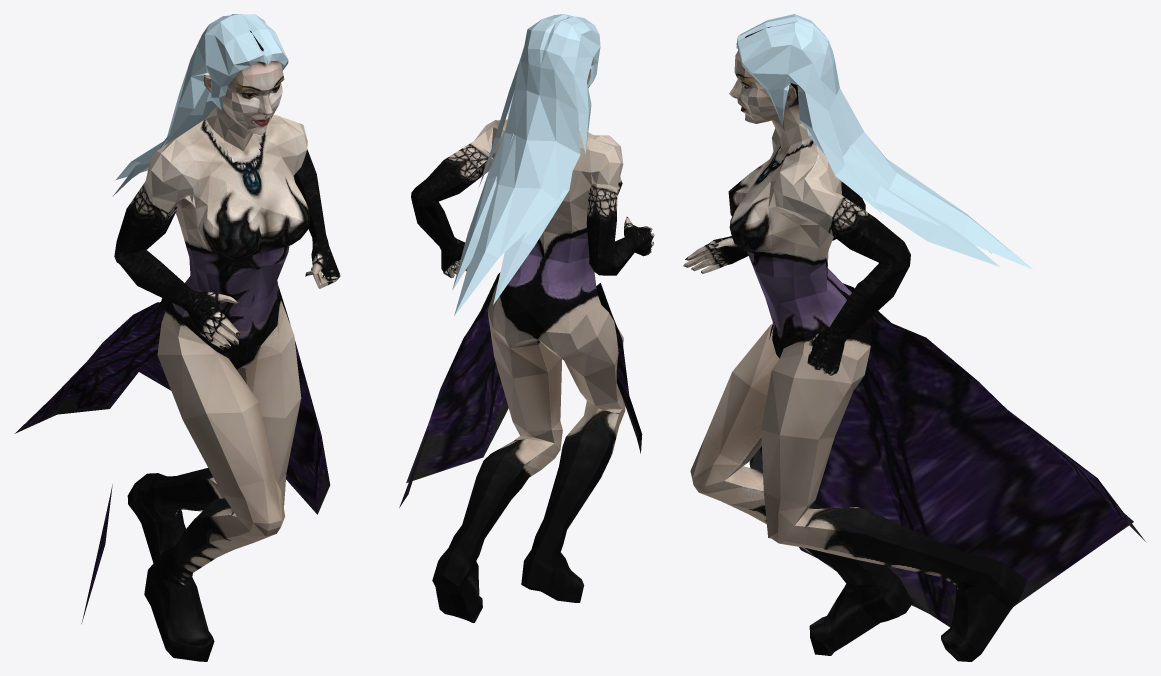
File: running_012.obj
3 renders of one model, left to right at view 1: azimuth 30°, elevation 25°; view 2: azimuth 150°, elevation 25°; view 3: azimuth 270°, elevation 25°, orthographic. The views are drawn at different scales.
Parts seen in each view (by area): view 1: Plane.001_Plane.007, Plane.003_Plane.008, capelli.001_Plane.006; view 2: Plane.001_Plane.007, capelli.001_Plane.006, Plane.003_Plane.008; view 3: Plane.001_Plane.007, Plane.003_Plane.008, capelli.001_Plane.006.
Part boxes in pixels (x1,y1,x2,y2): Plane.001_Plane.007: (114, 30, 340, 661); Plane.003_Plane.008: (14, 286, 330, 623); capelli.001_Plane.006: (112, 14, 288, 196); Plane.001_Plane.007: (411, 17, 654, 622); capelli.001_Plane.006: (452, 14, 600, 316); Plane.003_Plane.008: (399, 272, 642, 507); Plane.001_Plane.007: (683, 26, 1026, 661); Plane.003_Plane.008: (749, 283, 1145, 627); capelli.001_Plane.006: (736, 14, 1032, 269).
Bounding box in the file's own units: 1.71 × 5.04 × 3.24.
